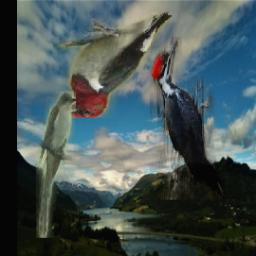Cuckoo: (36, 91, 76, 238)
Woodpecker: (50, 12, 173, 118), (151, 38, 226, 201)
